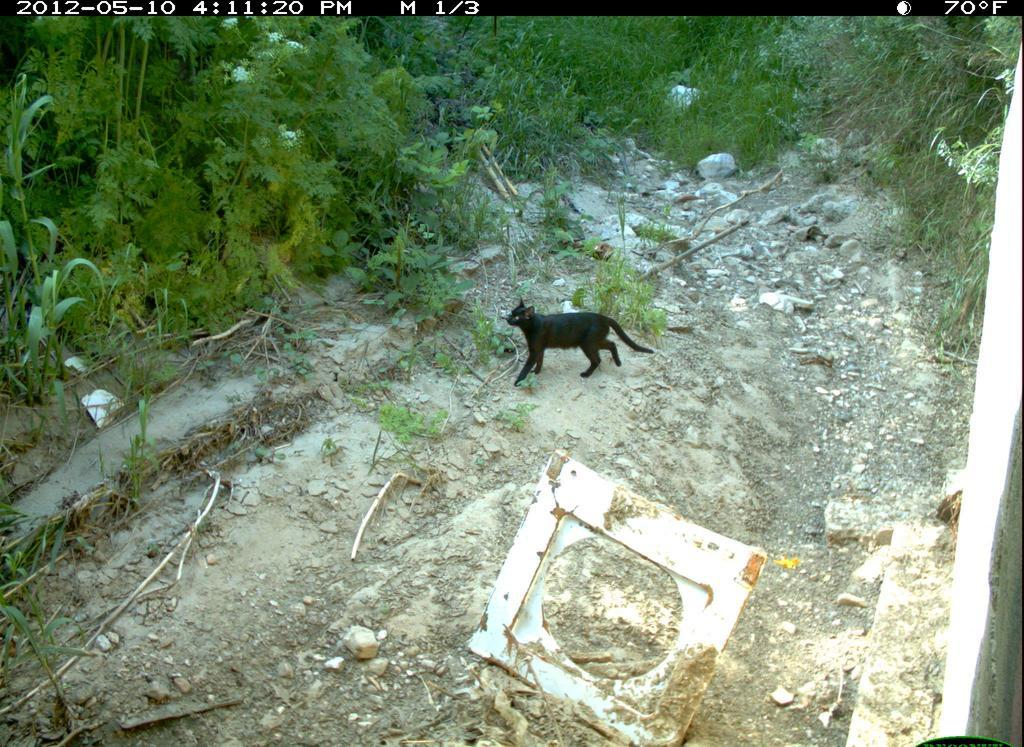cat: (500, 283, 662, 408)
